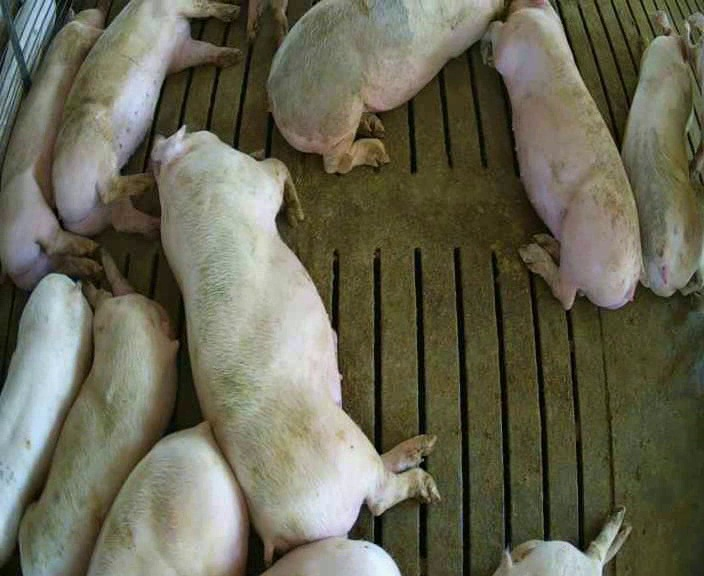pig: (152, 128, 438, 558), (20, 253, 177, 574), (481, 2, 641, 308), (54, 2, 240, 235), (268, 3, 503, 172), (0, 8, 103, 288), (0, 274, 91, 565), (88, 422, 247, 574), (622, 12, 701, 296), (494, 507, 631, 575)
